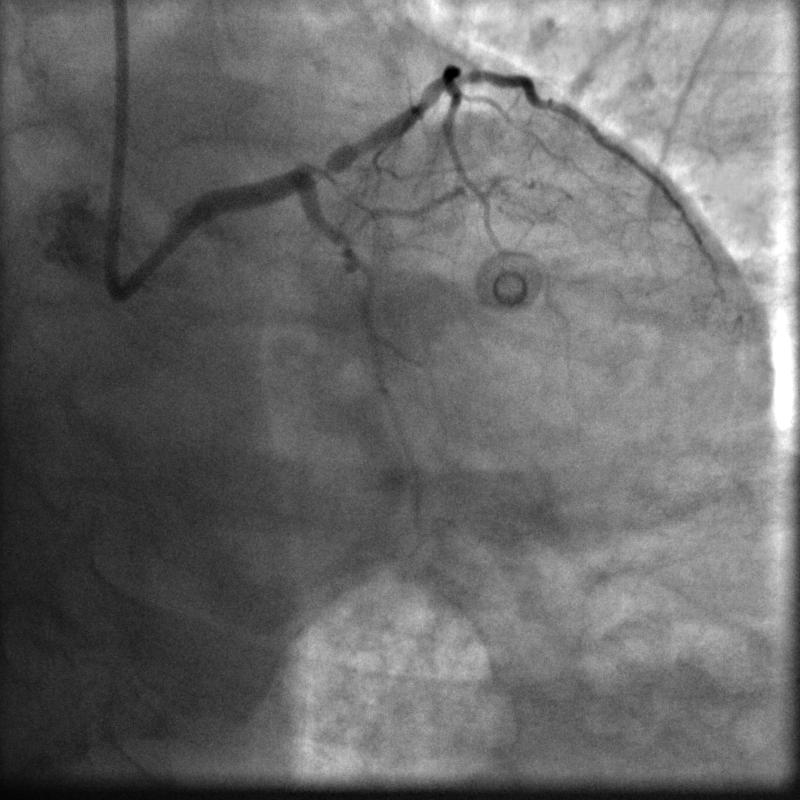Stenosis: (296, 154, 342, 180)
